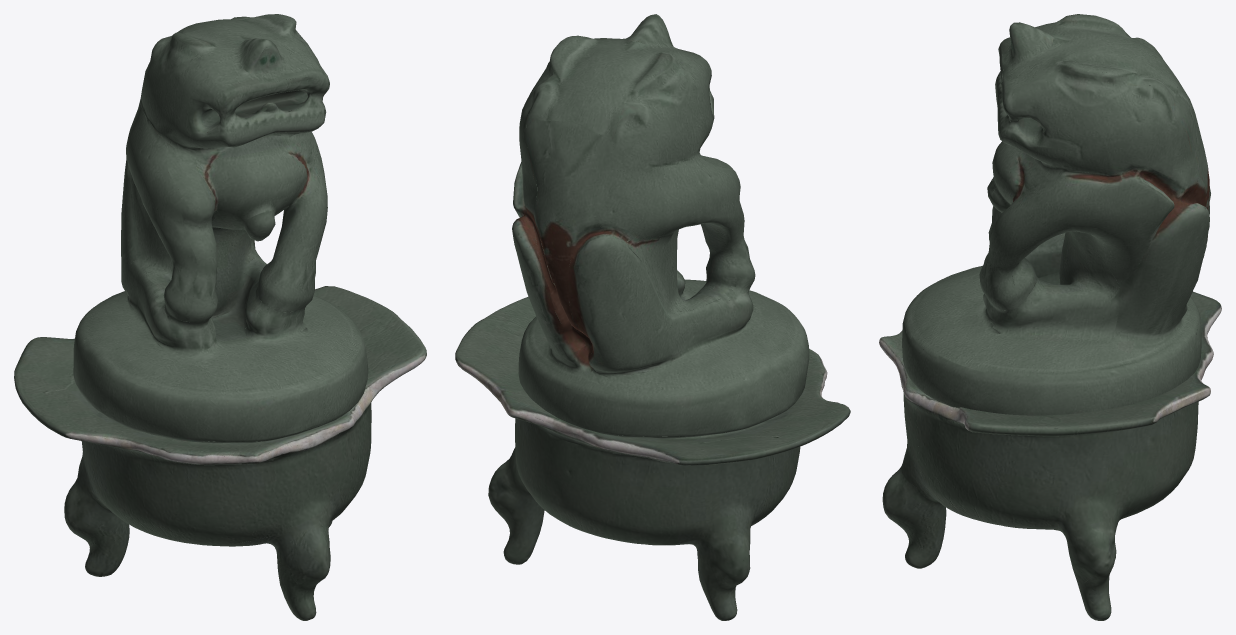
Rendered from lion.glb.
3 renders of one model, left to right at view 1: azimuth 30°, elevation 25°; view 2: azimuth 150°, elevation 25°; view 3: azimuth 270°, elevation 25°, orthographic.
Visible parts, largest first — view 1: top_lion, bottom_burner; view 2: top_lion, bottom_burner; view 3: top_lion, bottom_burner.
Boxes of the visible parts, <box> form: top_lion: <box>73,14,368,443</box>; bottom_burner: <box>14,286,426,620</box>; top_lion: <box>512,14,809,438</box>; bottom_burner: <box>455,296,850,620</box>; top_lion: <box>902,14,1210,415</box>; bottom_burner: <box>879,291,1221,620</box>.
Bounding box in the file's own units: 0.2984 × 0.4337 × 0.2458.
Materials: 2 (2 with a texture image).
